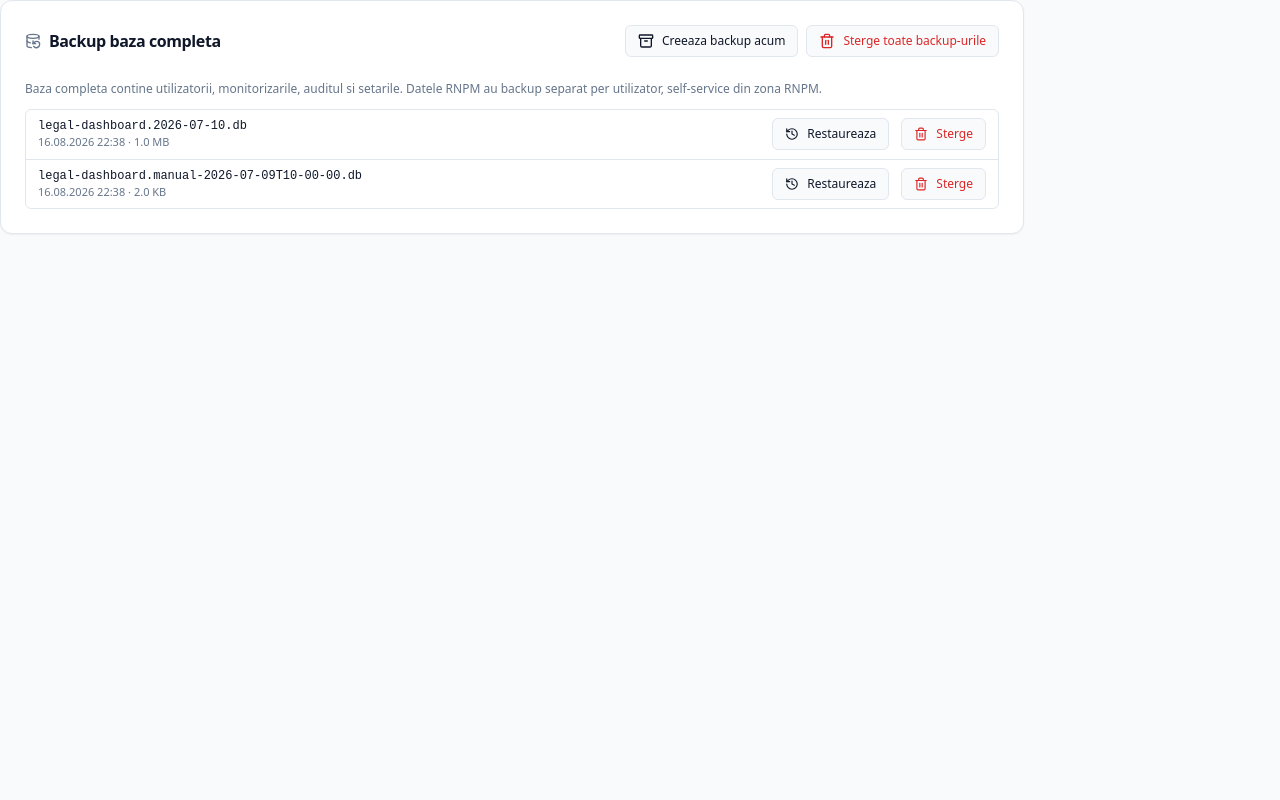
Scenario: AdminBackups (embedded) › confirmarea de restore are titlul 'Restaureaza backup', nu fallback-ul de stergere
What coordinates should you click on to do the following:
click the button "Restaureaza" in the row of "legal-dashboard.2026-07-10.db"
I would click on:
 (831, 134)
Its box is x1=772 y1=118 x2=889 y2=150.
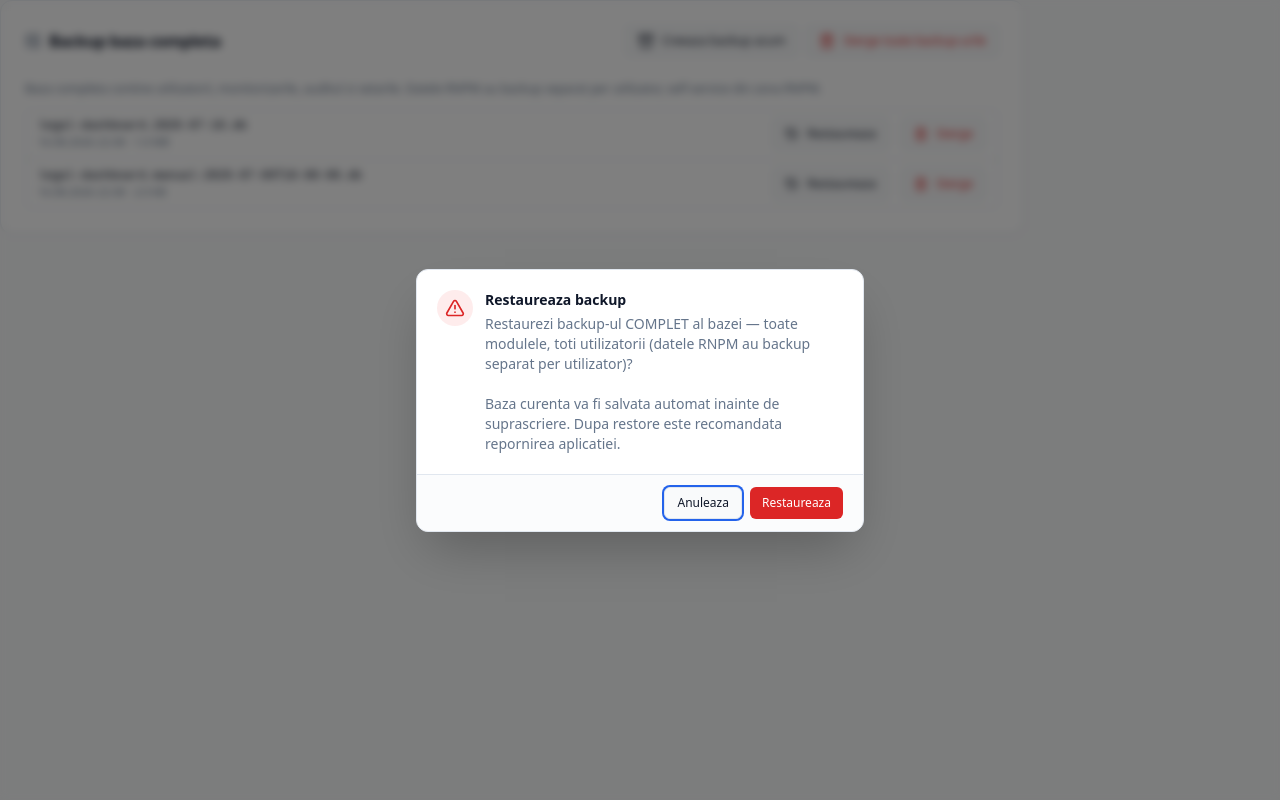
expect the dialog shows "Restaureaza backup": met, box x1=485 y1=290 x2=626 y2=308
